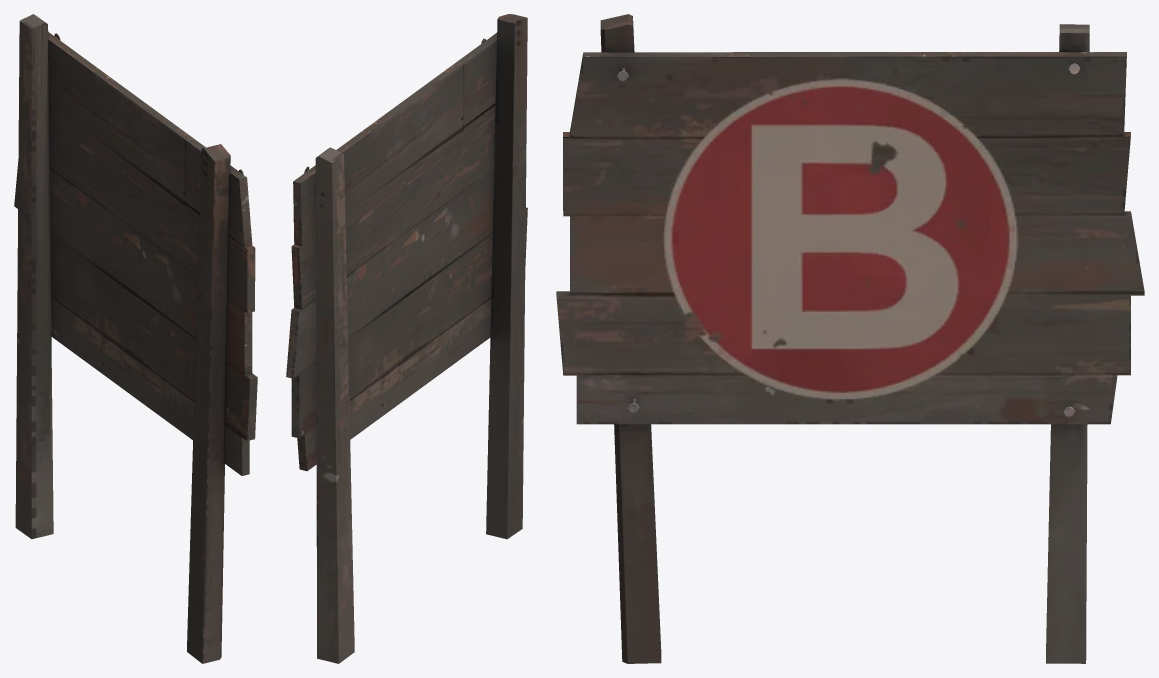
3 views of the same model, side by side, from view 1: azimuth 30°, elevation 25°; view 2: azimuth 150°, elevation 25°; view 3: azimuth 270°, elevation 25° (orthographic). The views are drawn at different scales.
Visible parts, largest first — view 1: body0_model0_lod0_mesh0; view 2: body0_model0_lod0_mesh0; view 3: body0_model0_lod0_mesh0.
Boxes of the visible parts, x1,y1,x2,y2 form: body0_model0_lod0_mesh0: (14,14,257,663); body0_model0_lod0_mesh0: (286,14,527,663); body0_model0_lod0_mesh0: (556,14,1144,663).
Size of the model in its own units: 11.74 by 143 by 119.
1 material, 1 textured.
